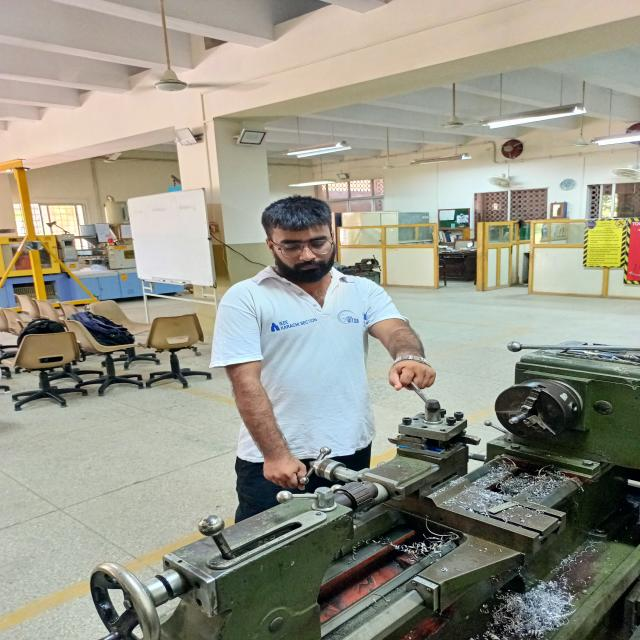dress: (204, 264, 414, 526)
glasses: (266, 236, 344, 262)
